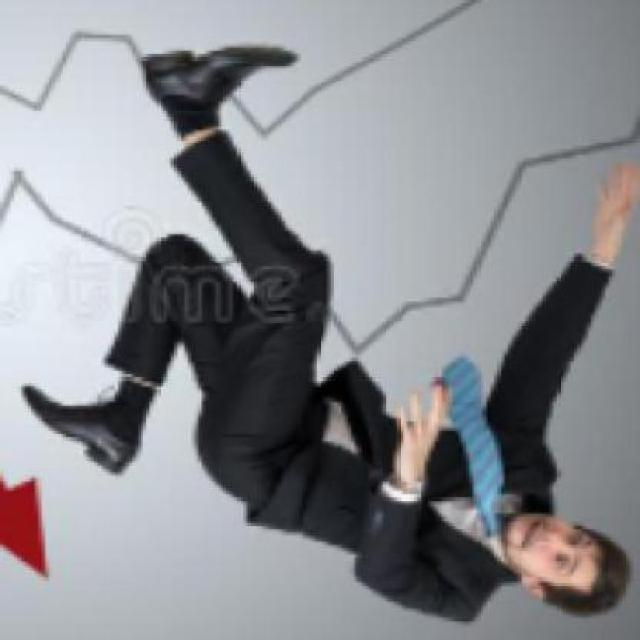fall: (21, 45, 634, 624)
